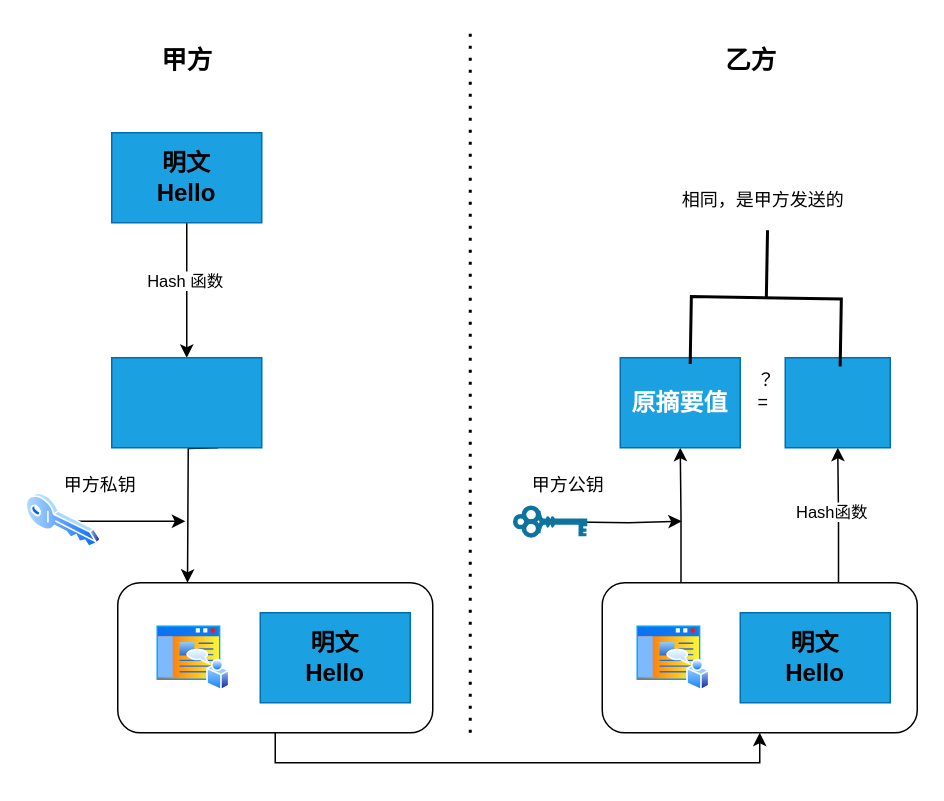
Some shapes in this 944 by 801 pixel diagram are drawn without their labels. The centre of each missing label's shape, as x and y in pixels:
摘要值: the point at 186,402
新摘要值: the point at 837,402
